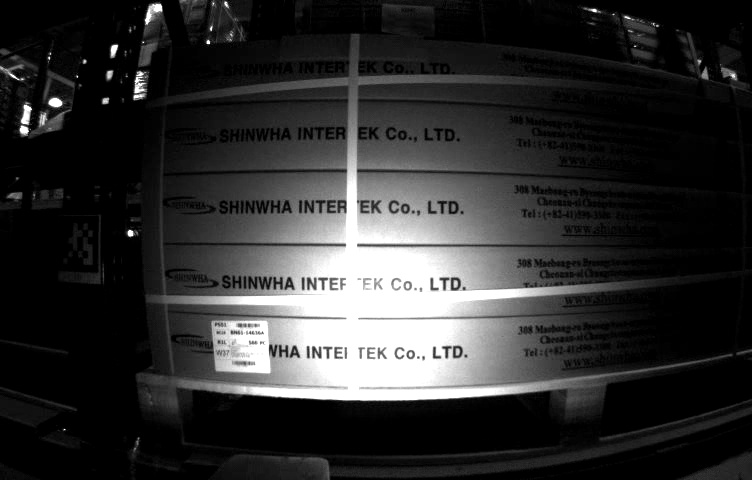True Barcode: (211, 320, 270, 375)
